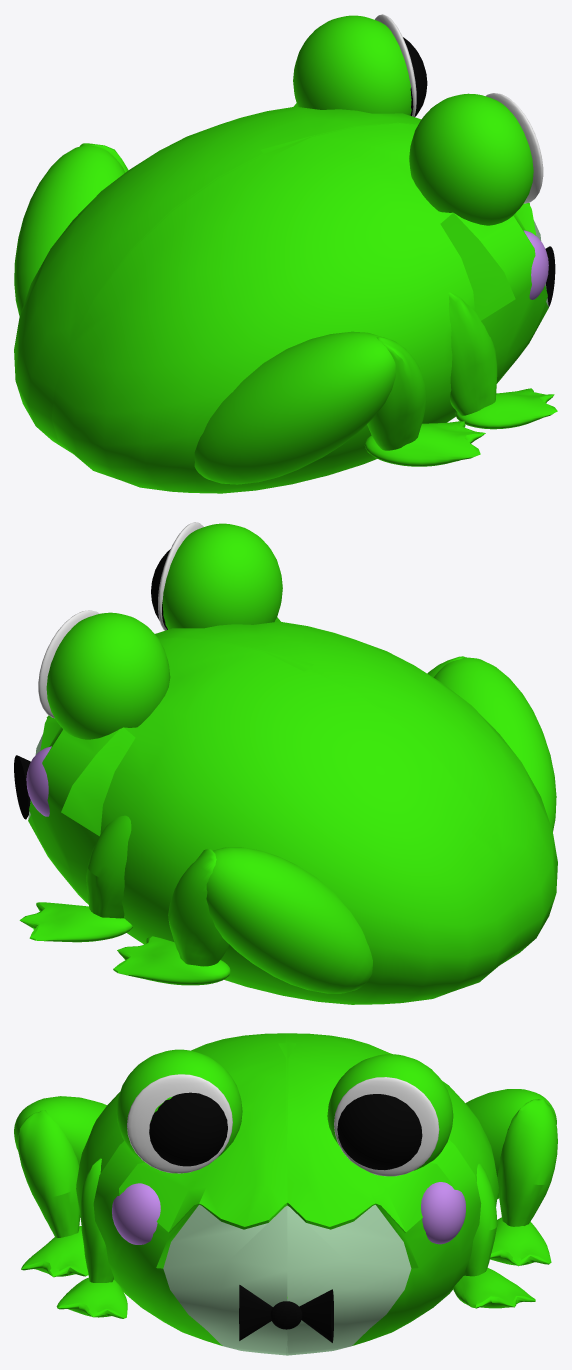
The model's file is kurbak.fbx.
The picture shows the model from 3 angles, top to bottom: view 1: azimuth 30°, elevation 25°; view 2: azimuth 150°, elevation 25°; view 3: azimuth 270°, elevation 25°; orthographic projection. The views are drawn at different scales.
Parts seen in each view (by area): view 1: Sphere, Sphere.008, Sphere.003, Sphere.002, Sphere.007, Sphere.013, Sphere.011, Sphere.012, Sphere.014, Sphere.018, Sphere.005, Sphere.001 (+1 smaller); view 2: Sphere, Sphere.007, Sphere.002, Sphere.003, Sphere.008, Sphere.009, Sphere.015, Sphere.010, Sphere.016, Sphere.017, Sphere.006, Sphere.018 (+1 smaller); view 3: Sphere, Sphere.019, Sphere.009, Sphere.011, Sphere.001, Sphere.004, Sphere.003, Sphere.002, Sphere.018, Sphere.017, Sphere.008, Sphere.007 (+11 smaller).
Part boxes in pixels (bbox=[...]): Sphere: bbox=[14, 103, 548, 493]; Sphere.008: bbox=[194, 331, 395, 484]; Sphere.003: bbox=[409, 93, 533, 225]; Sphere.002: bbox=[293, 15, 411, 115]; Sphere.007: bbox=[14, 145, 124, 316]; Sphere.013: bbox=[448, 292, 497, 415]; Sphere.011: bbox=[367, 337, 426, 450]; Sphere.012: bbox=[364, 421, 485, 466]; Sphere.014: bbox=[455, 388, 557, 429]; Sphere.018: bbox=[485, 93, 543, 203]; Sphere.005: bbox=[523, 230, 548, 299]; Sphere.001: bbox=[403, 37, 427, 116]; Sphere: bbox=[28, 617, 557, 1004]; Sphere.007: bbox=[206, 847, 372, 993]; Sphere.002: bbox=[46, 612, 170, 739]; Sphere.003: bbox=[162, 523, 282, 629]; Sphere.008: bbox=[433, 657, 556, 831]; Sphere.009: bbox=[168, 848, 229, 966]; Sphere.015: bbox=[86, 815, 131, 918]; Sphere.010: bbox=[113, 936, 230, 985]; Sphere.016: bbox=[19, 902, 132, 942]; Sphere.017: bbox=[38, 610, 99, 718]; Sphere.006: bbox=[26, 746, 51, 816]; Sphere.018: bbox=[158, 522, 203, 630]; Sphere: bbox=[76, 1033, 498, 1345]; Sphere.019: bbox=[163, 1204, 411, 1355]; Sphere.009: bbox=[497, 1099, 557, 1226]; Sphere.011: bbox=[18, 1110, 80, 1237]; Sphere.001: bbox=[337, 1094, 422, 1170]; Sphere.004: bbox=[149, 1092, 227, 1166]; Sphere.003: bbox=[116, 1049, 242, 1162]; Sphere.002: bbox=[327, 1054, 453, 1170]; Sphere.018: bbox=[127, 1074, 232, 1173]; Sphere.017: bbox=[334, 1077, 439, 1176]; Sphere.008: bbox=[14, 1096, 106, 1165]; Sphere.007: bbox=[465, 1089, 556, 1198].
Size of the model in its own units: 520 by 362 by 547.
